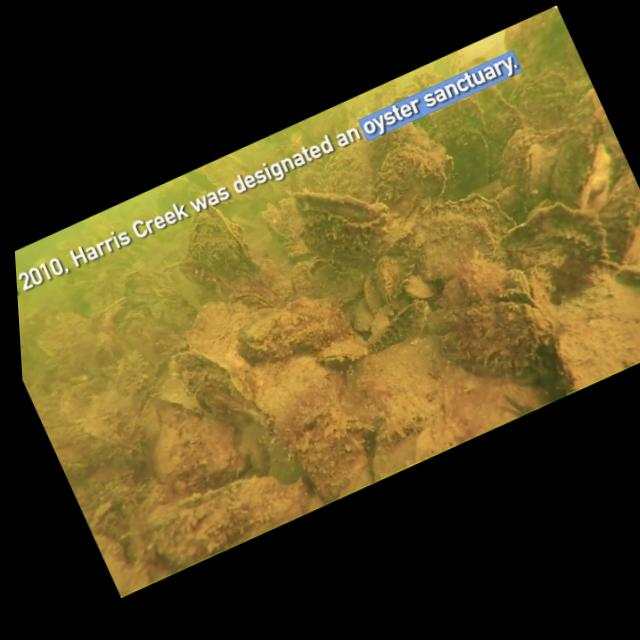Oyster-Closed: (166, 185, 264, 296), (507, 137, 571, 206)
Oyster-Indeterminate: (126, 447, 323, 582), (433, 275, 580, 426), (382, 173, 529, 297), (486, 184, 619, 301), (166, 331, 266, 448), (249, 343, 353, 443), (352, 128, 459, 225), (164, 275, 258, 367), (227, 296, 315, 374), (341, 108, 433, 175), (133, 417, 207, 492), (560, 141, 631, 217), (30, 304, 107, 374), (110, 297, 182, 369), (478, 116, 553, 183), (552, 79, 617, 155), (360, 243, 422, 317), (434, 87, 497, 154), (440, 121, 499, 190), (114, 251, 175, 314), (80, 284, 145, 337), (482, 171, 539, 224), (148, 275, 199, 327), (605, 244, 640, 316), (131, 398, 173, 446), (356, 266, 393, 313), (398, 269, 439, 310), (343, 296, 382, 338), (116, 422, 150, 465)
Oyster-Open: (281, 161, 406, 285), (495, 3, 581, 84), (315, 325, 373, 376), (330, 409, 387, 457), (227, 277, 282, 325), (83, 494, 126, 534)
